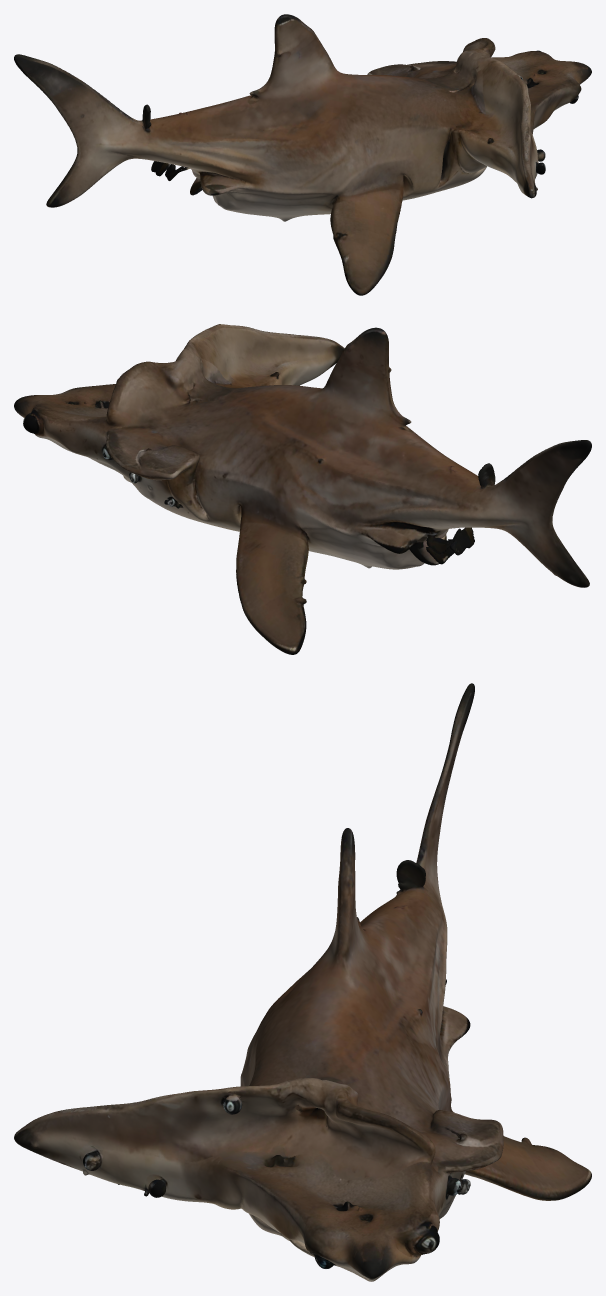
3 views of the same model, one above another, from view 1: azimuth 30°, elevation 25°; view 2: azimuth 150°, elevation 25°; view 3: azimuth 270°, elevation 25° (orthographic). The views are drawn at different scales.
Parts seen in each view (by area): view 1: tripo_node_44848e9d-0a63-47d0-a38b-7b9c3f9714f9; view 2: tripo_node_44848e9d-0a63-47d0-a38b-7b9c3f9714f9; view 3: tripo_node_44848e9d-0a63-47d0-a38b-7b9c3f9714f9.
Boxes of the visible parts, x1,y1,x2,y2 form: tripo_node_44848e9d-0a63-47d0-a38b-7b9c3f9714f9: (14, 14, 591, 295); tripo_node_44848e9d-0a63-47d0-a38b-7b9c3f9714f9: (14, 324, 591, 654); tripo_node_44848e9d-0a63-47d0-a38b-7b9c3f9714f9: (14, 683, 591, 1281).
Size of the model in its own units: 1 by 0.4068 by 0.6047.
1 material, 1 textured.
